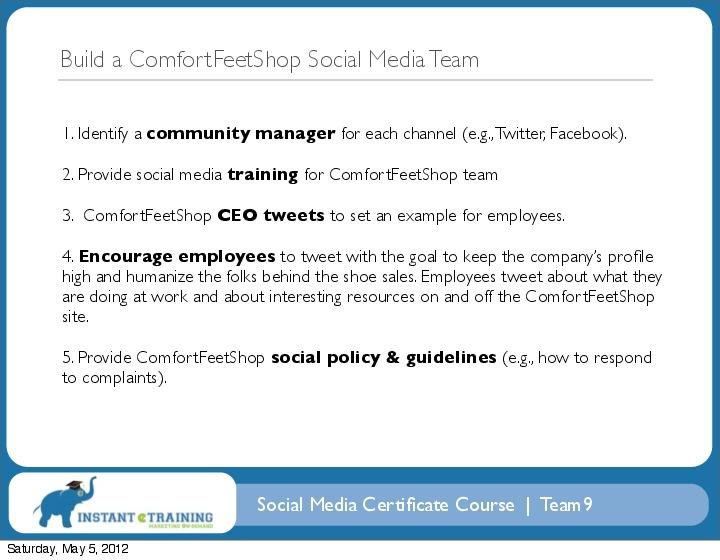paragraph: (57, 108, 683, 415)
title: (58, 32, 494, 87)
